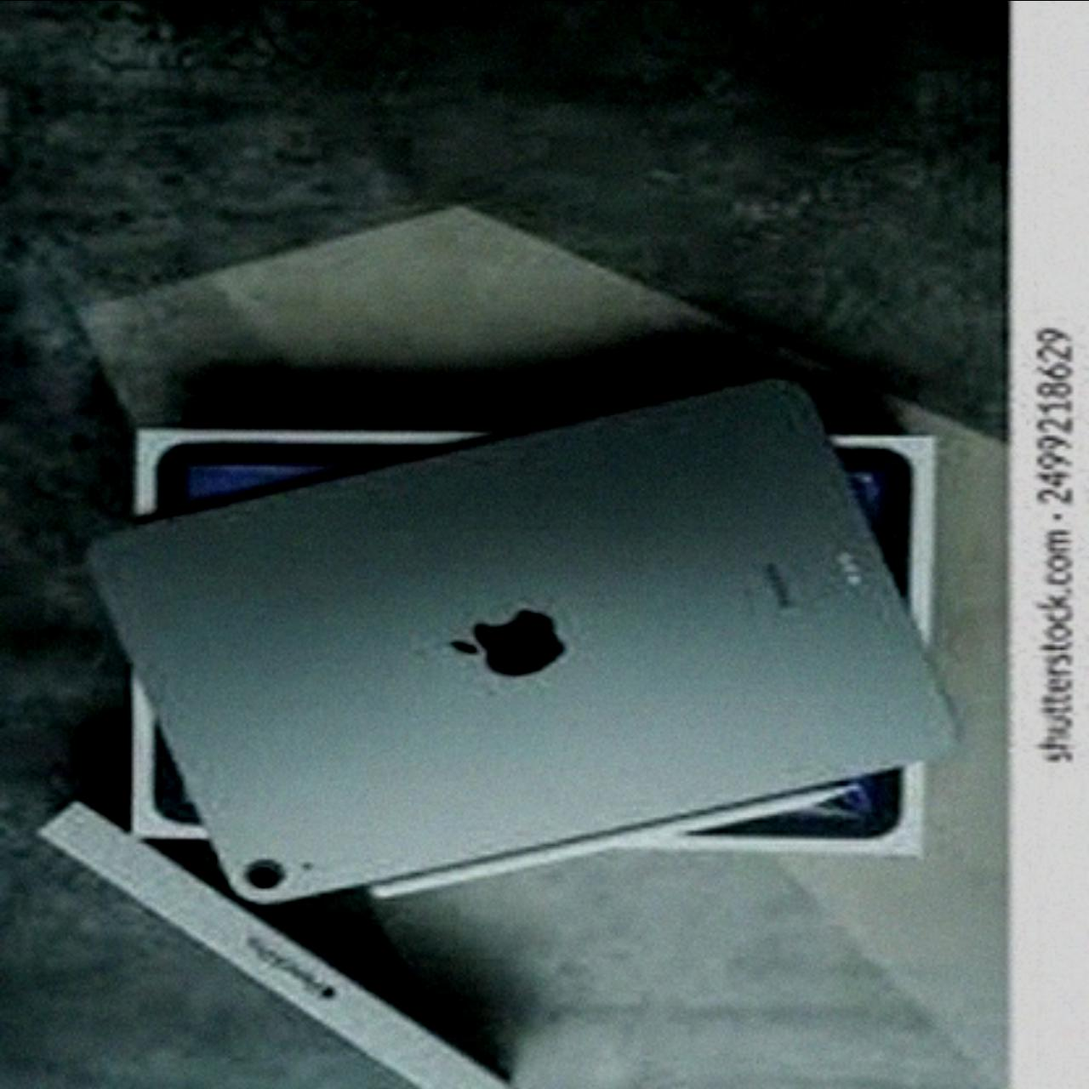Tablet_PC: (79, 330, 971, 929)
